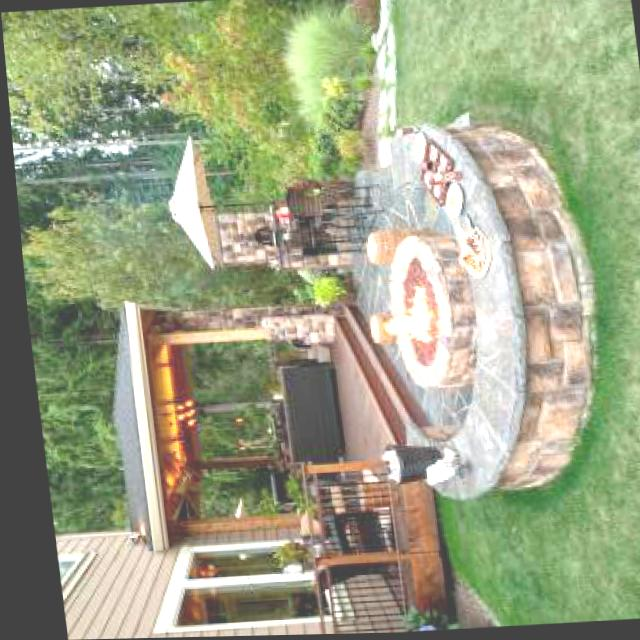Fire: (368, 288, 431, 343)
